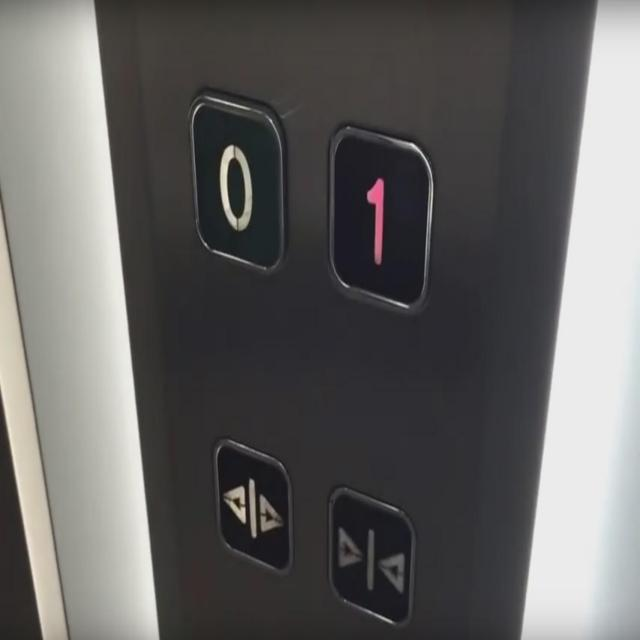0: (185, 82, 288, 278)
1: (326, 116, 434, 316)
close: (328, 482, 416, 630)
open: (212, 432, 293, 576)
